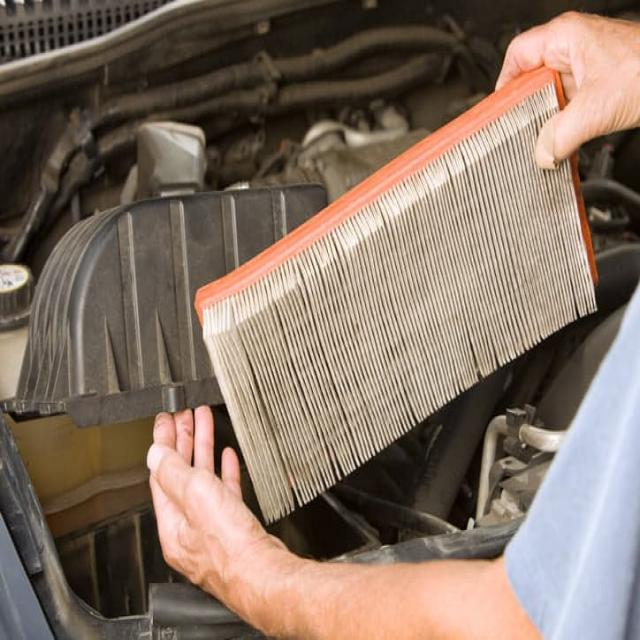air_filter: (187, 69, 562, 543)
